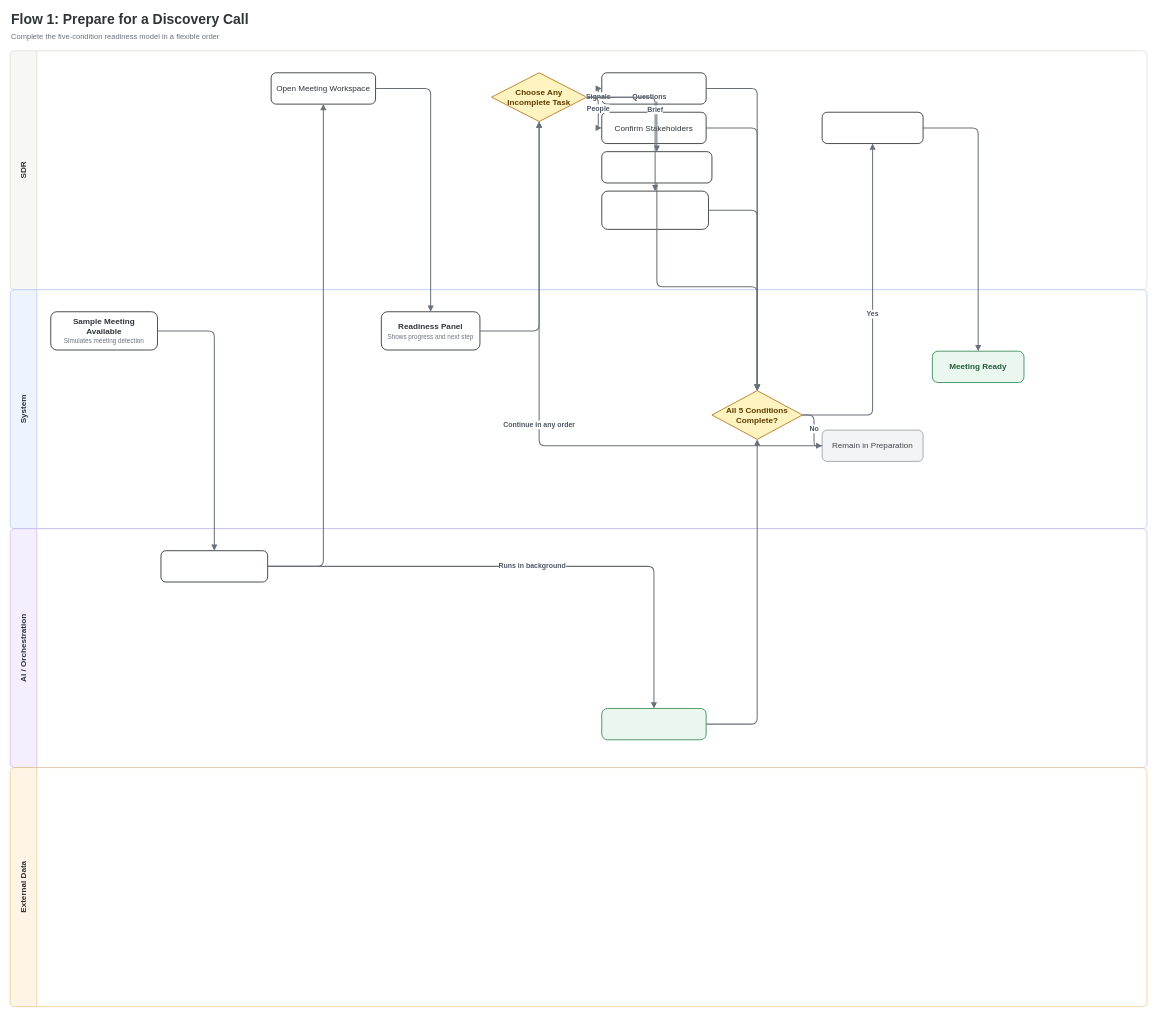
Image size: 1157x1017. Some labels were removed from this diagram. Here are the shapes that lost their labels. From the top down, the box of each, then its label:
(601, 72, 706, 104): Review Priority Signals
(821, 112, 923, 144): Mark Meeting Ready
(601, 151, 712, 183): Select at Least 3 Questions
(601, 190, 709, 230): Generate and Review Brief Must contain a section
(160, 550, 268, 582): Simulated Research Starts
(601, 708, 706, 740): Research Reaches 100%
